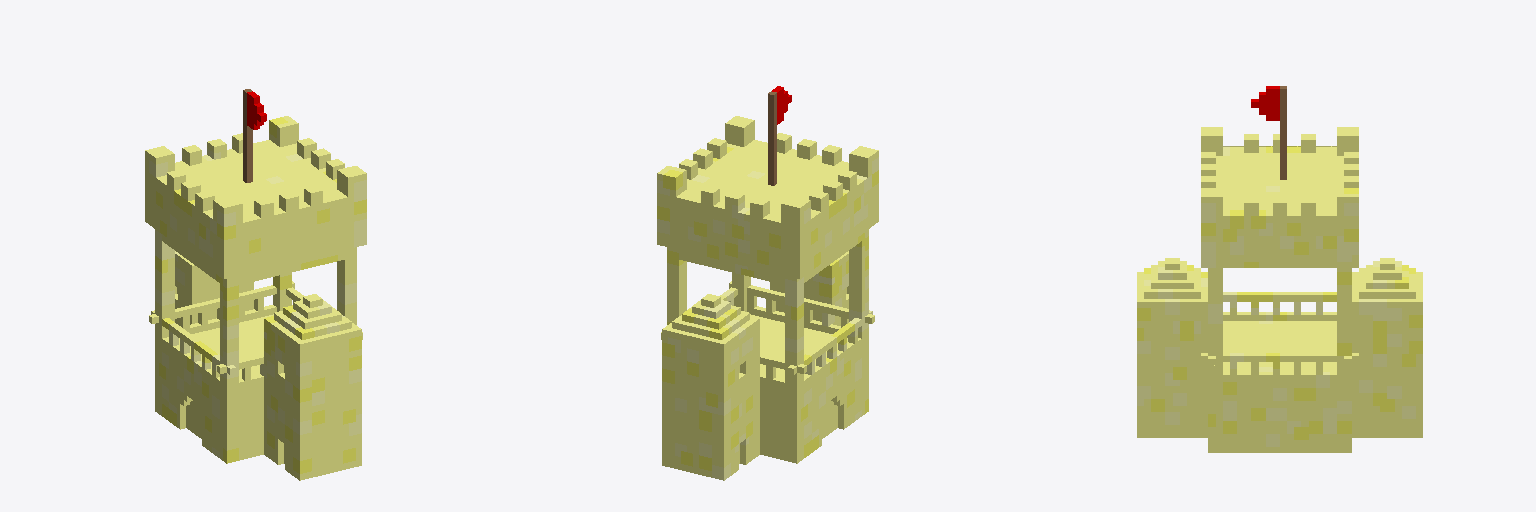
3 views of the same model, side by side, from view 1: azimuth 30°, elevation 25°; view 2: azimuth 150°, elevation 25°; view 3: azimuth 270°, elevation 25° (orthographic).
Size of the model in its own units: 23 by 51 by 40.
Materials: 1 (1 with a texture image).